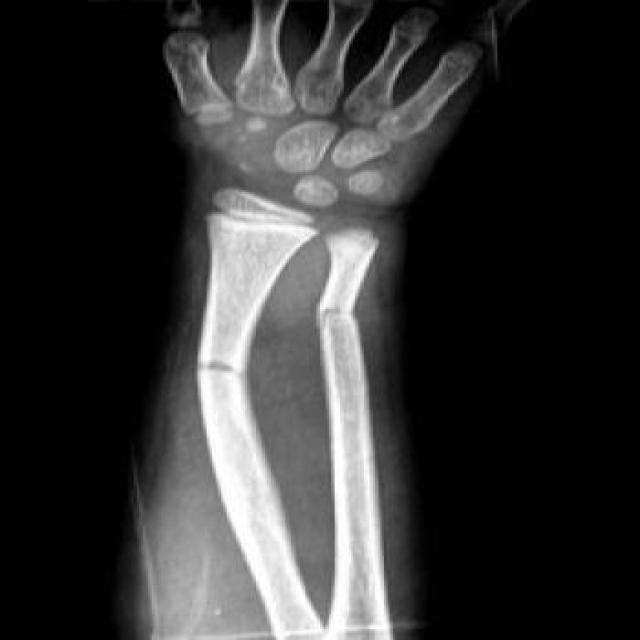Fracture: (176, 350, 270, 381), (306, 298, 376, 337)
